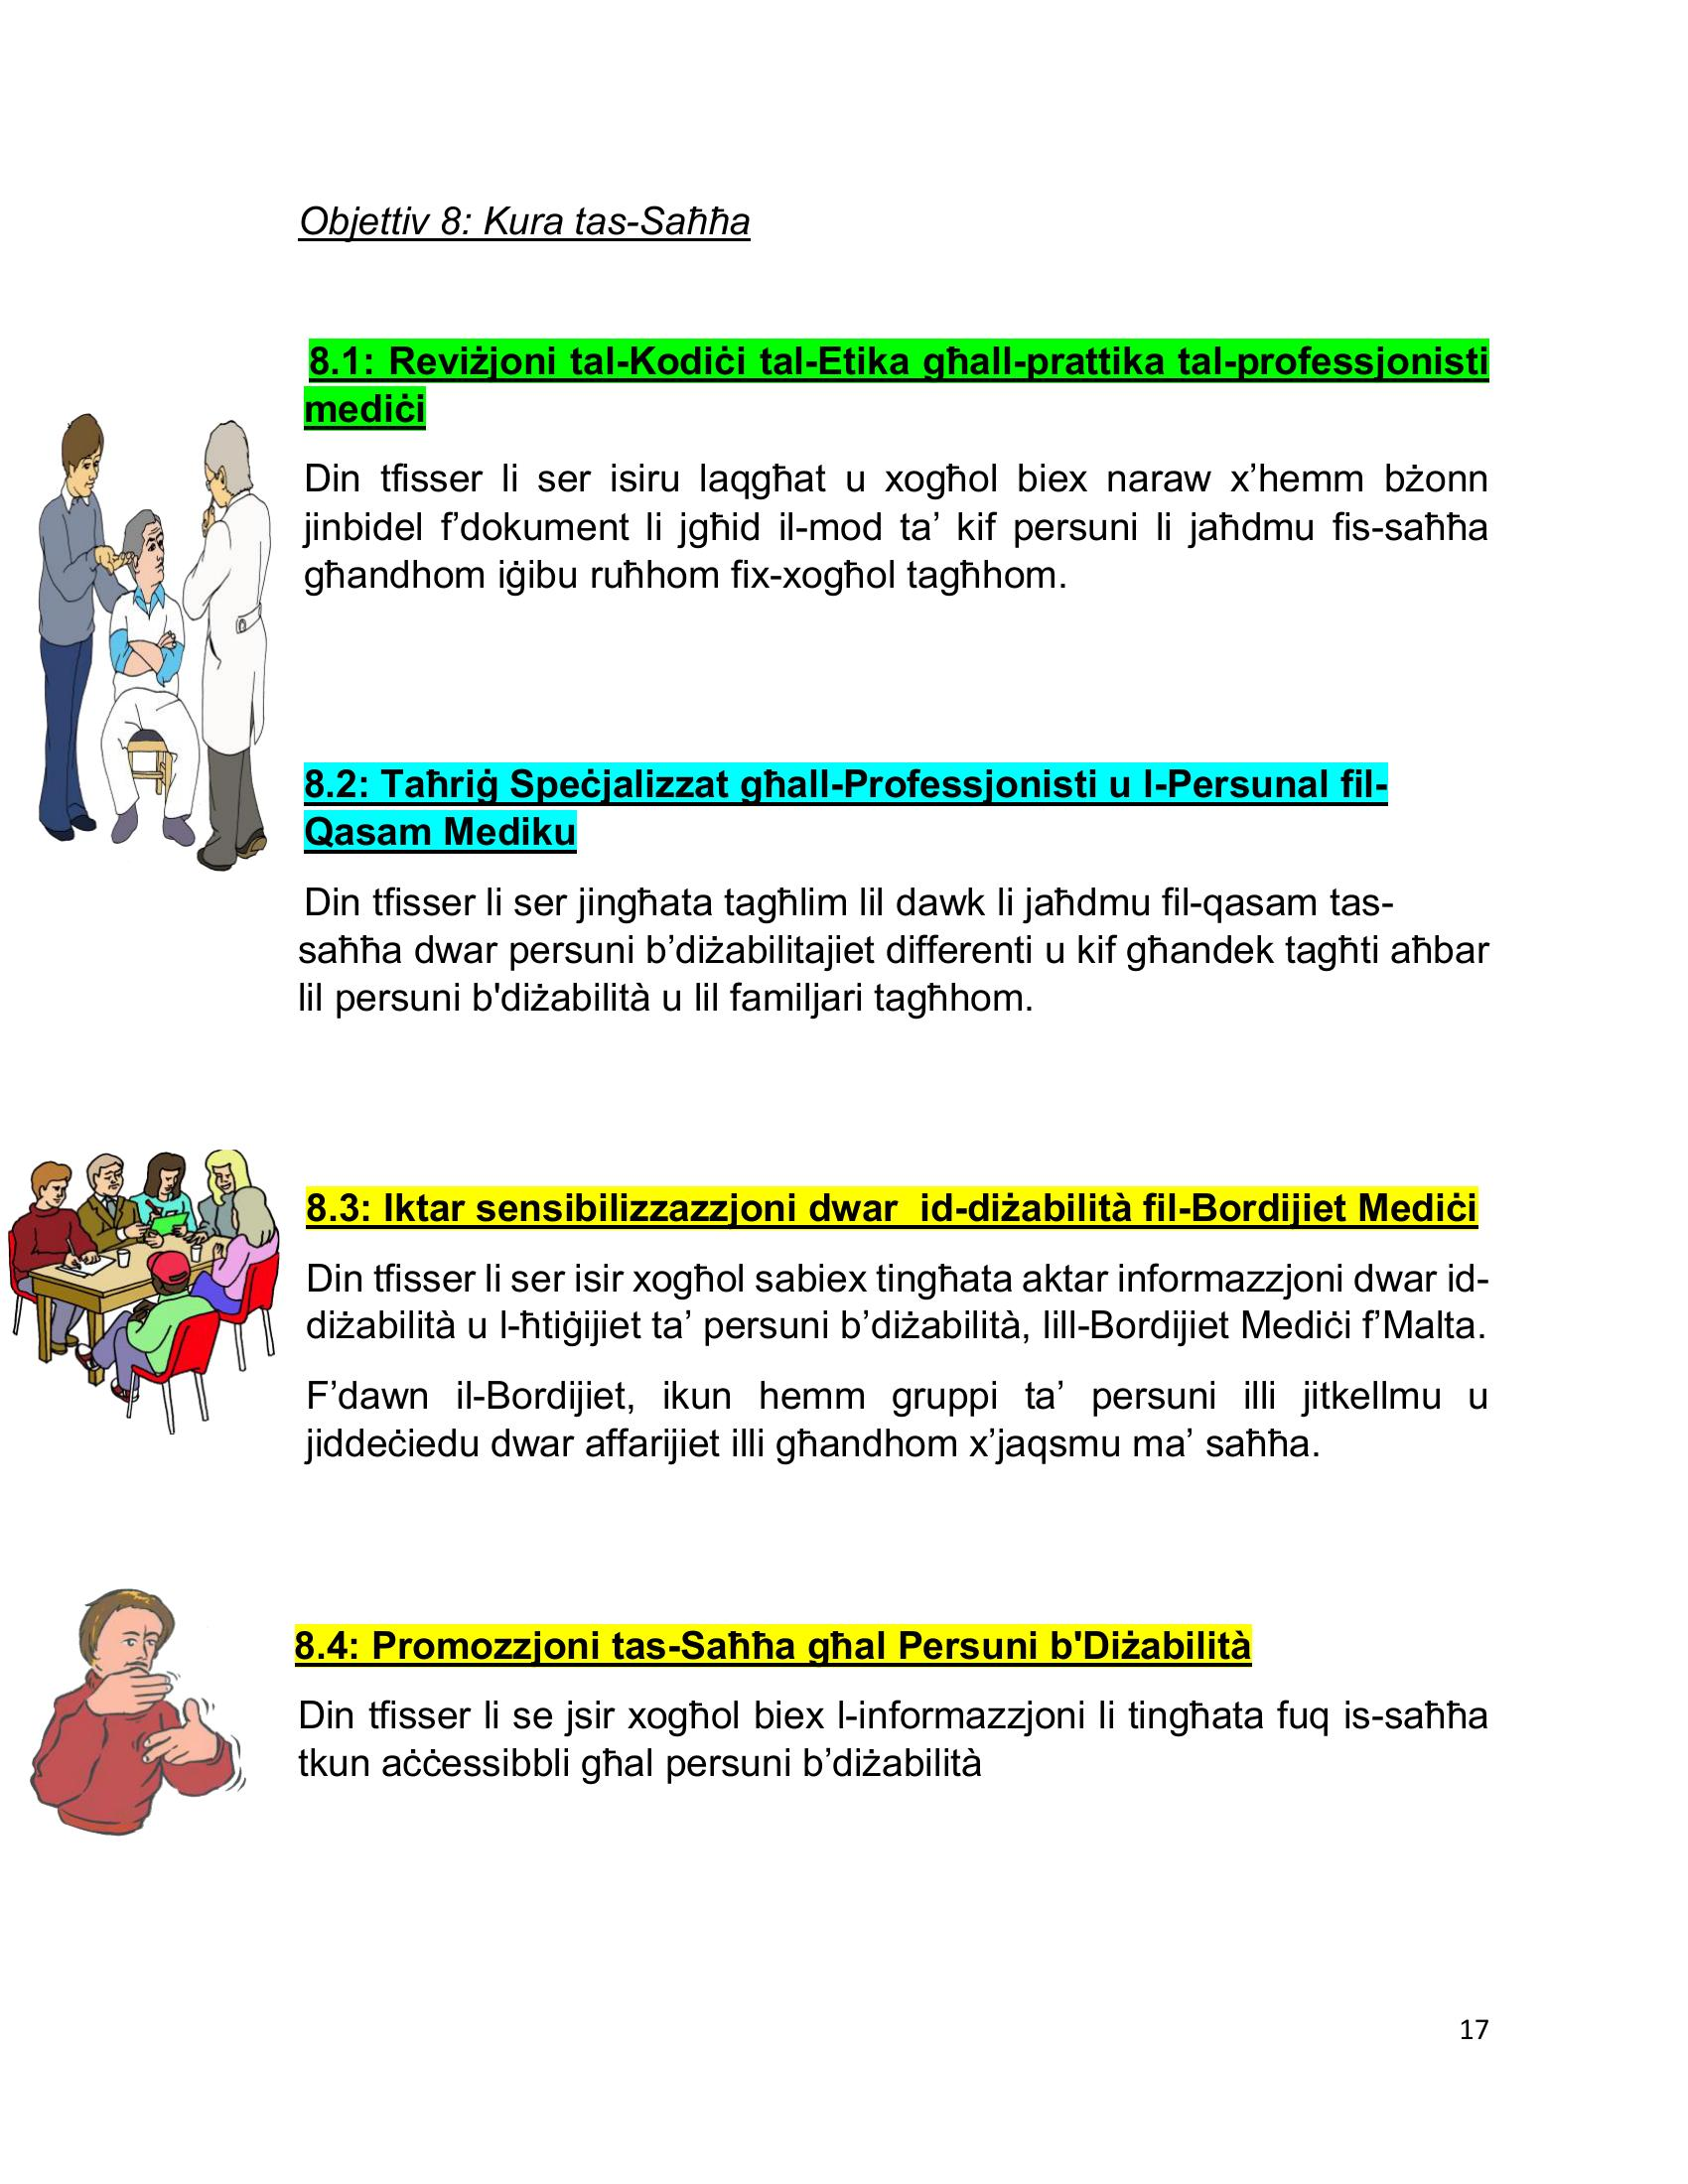text: (284, 191, 1521, 1824)
